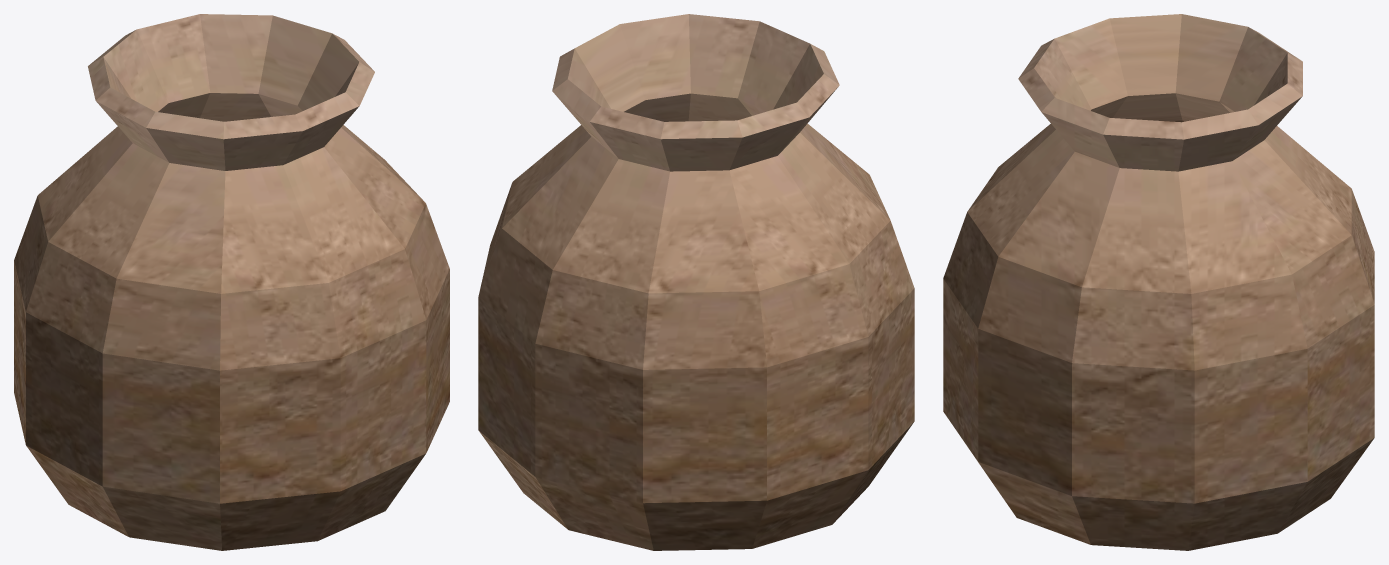
Rendered from Claypot.fbx.
3 views of the same model, side by side, from view 1: azimuth 30°, elevation 25°; view 2: azimuth 150°, elevation 25°; view 3: azimuth 270°, elevation 25° (orthographic).
Visible parts, largest first — view 1: Claypot; view 2: Claypot; view 3: Claypot.
Part boxes in pixels (x1,y1,x2,y2): Claypot: (14, 14, 449, 550); Claypot: (478, 14, 914, 550); Claypot: (943, 14, 1374, 550).
Size of the model in its own units: 1.98 by 1.96 by 2.05.
Materials: 1 (1 with a texture image).
